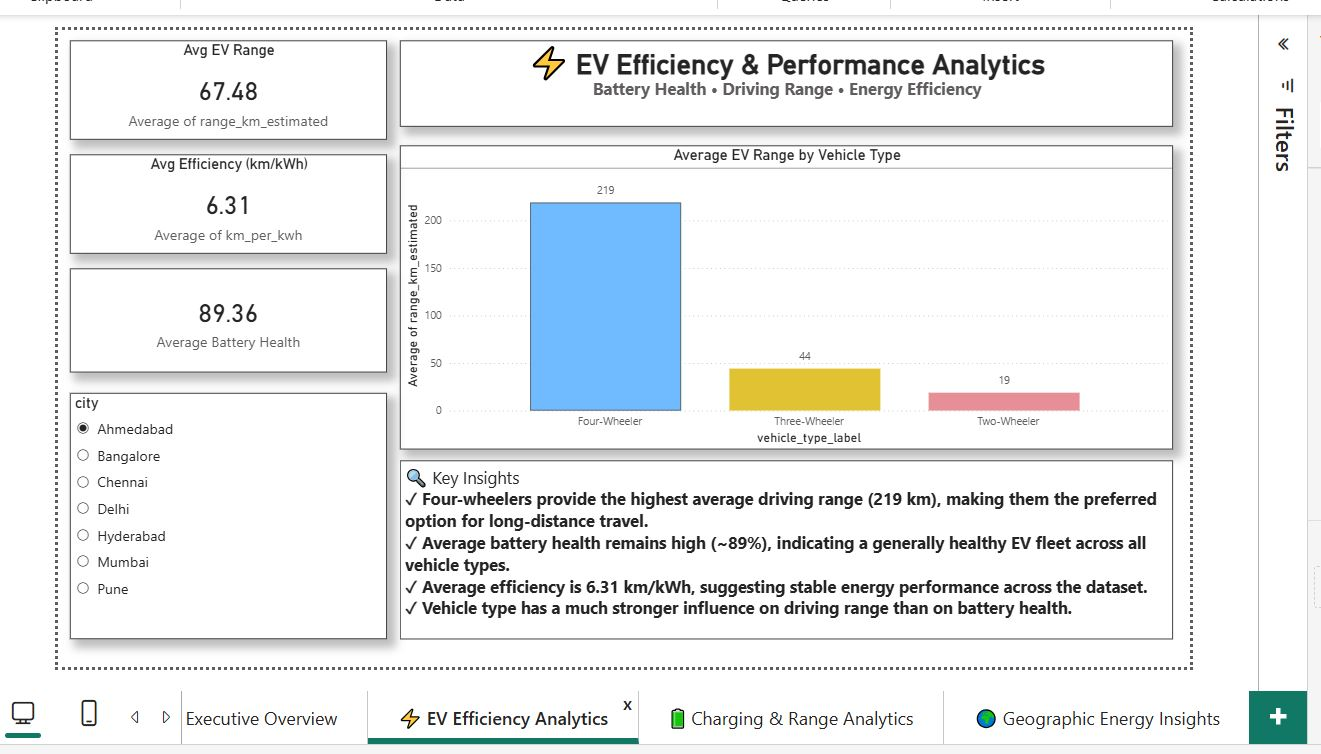

The page's visual inventory and layout, read from the dashboard file:
{"tool":"powerbi","page":{"name":"⚡ EV Efficiency Analytics","canvas":[1280,720],"ordinal":1},"visuals":[{"type":"clusteredColumnChart","title":"Average EV Range by Vehicle Type","fields":{"Category":["ev_final_dashboard_dataset.vehicle_type_label"],"Y":["Avg(ev_final_dashboard_dataset.range_km_estimated)"]},"box":[387.1,130.1,873.5,343.2],"z":0},{"type":"card","title":"Avg EV Range","fields":{"Values":["Avg(ev_final_dashboard_dataset.range_km_estimated)"]},"box":[13,11.4,357.8,112.2],"z":1000},{"type":"card","title":"Avg Efficiency (km/kWh)","fields":{"Values":["Avg(ev_final_dashboard_dataset.km_per_kwh)"]},"box":[13,141.5,357.8,112.2],"z":2000},{"type":"listSlicer","fields":{"Values":["ev_final_dashboard_dataset.city"]},"box":[13,409.9,357.8,278.1],"z":3000},{"type":"textbox","title":"⚡ EV Efficiency & Performance Analytics","box":[387.1,11.4,873.5,97.6],"z":4000},{"type":"card","fields":{"Values":["ev_final_dashboard_dataset.Average Battery Health"]},"box":[13,270,357.8,117.1],"z":5000},{"type":"textbox","box":[387.1,486.3,873.5,201.7],"z":6000}]}

Visuals, with their boxes on the page's 1280x720 design canvas (x1, y1, x2, y2). These are canvas units, not pixel positions in the 1321x754 screenshot, which may show the page scaled, cropped or inside an application window:
"Average EV Range by Vehicle Type" clusteredColumnChart: (387,130,1261,473)
"Avg EV Range" card: (13,11,371,124)
"Avg Efficiency (km/kWh)" card: (13,142,371,254)
listSlicer - ev_final_dashboard_dataset.city: (13,410,371,688)
"⚡ EV Efficiency & Performance Analytics" textbox: (387,11,1261,109)
card - ev_final_dashboard_dataset.Average Battery Health: (13,270,371,387)
textbox: (387,486,1261,688)
